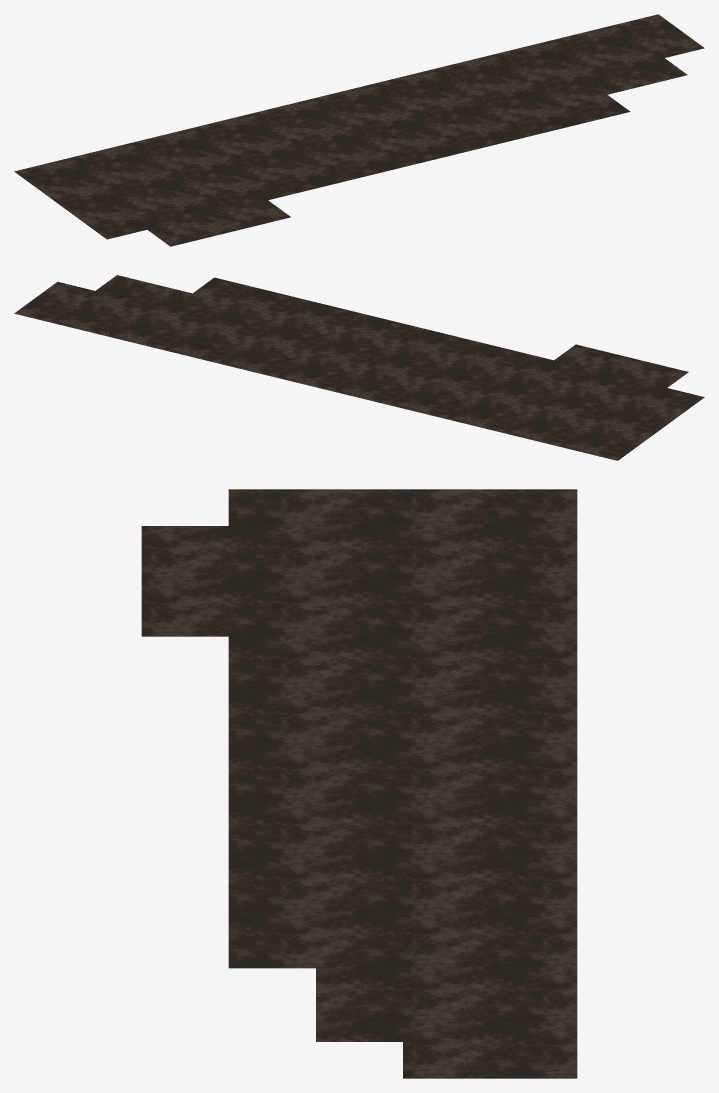
Rendered from floor_1_-4.glb.
The picture shows the model from 3 angles, top to bottom: view 1: azimuth 30°, elevation 25°; view 2: azimuth 150°, elevation 25°; view 3: azimuth 270°, elevation 25°; orthographic projection. The views are drawn at different scales.
Parts seen in each view (by area): view 1: floor_1_-4; view 2: floor_1_-4; view 3: floor_1_-4.
Part boxes in pixels (<box>): floor_1_-4: <box>14,14,704,246</box>; floor_1_-4: <box>14,275,704,460</box>; floor_1_-4: <box>141,489,577,1078</box>.
Bounding box in the file's own units: 64 × 0 × 20.
Materials: 1 (1 with a texture image).
